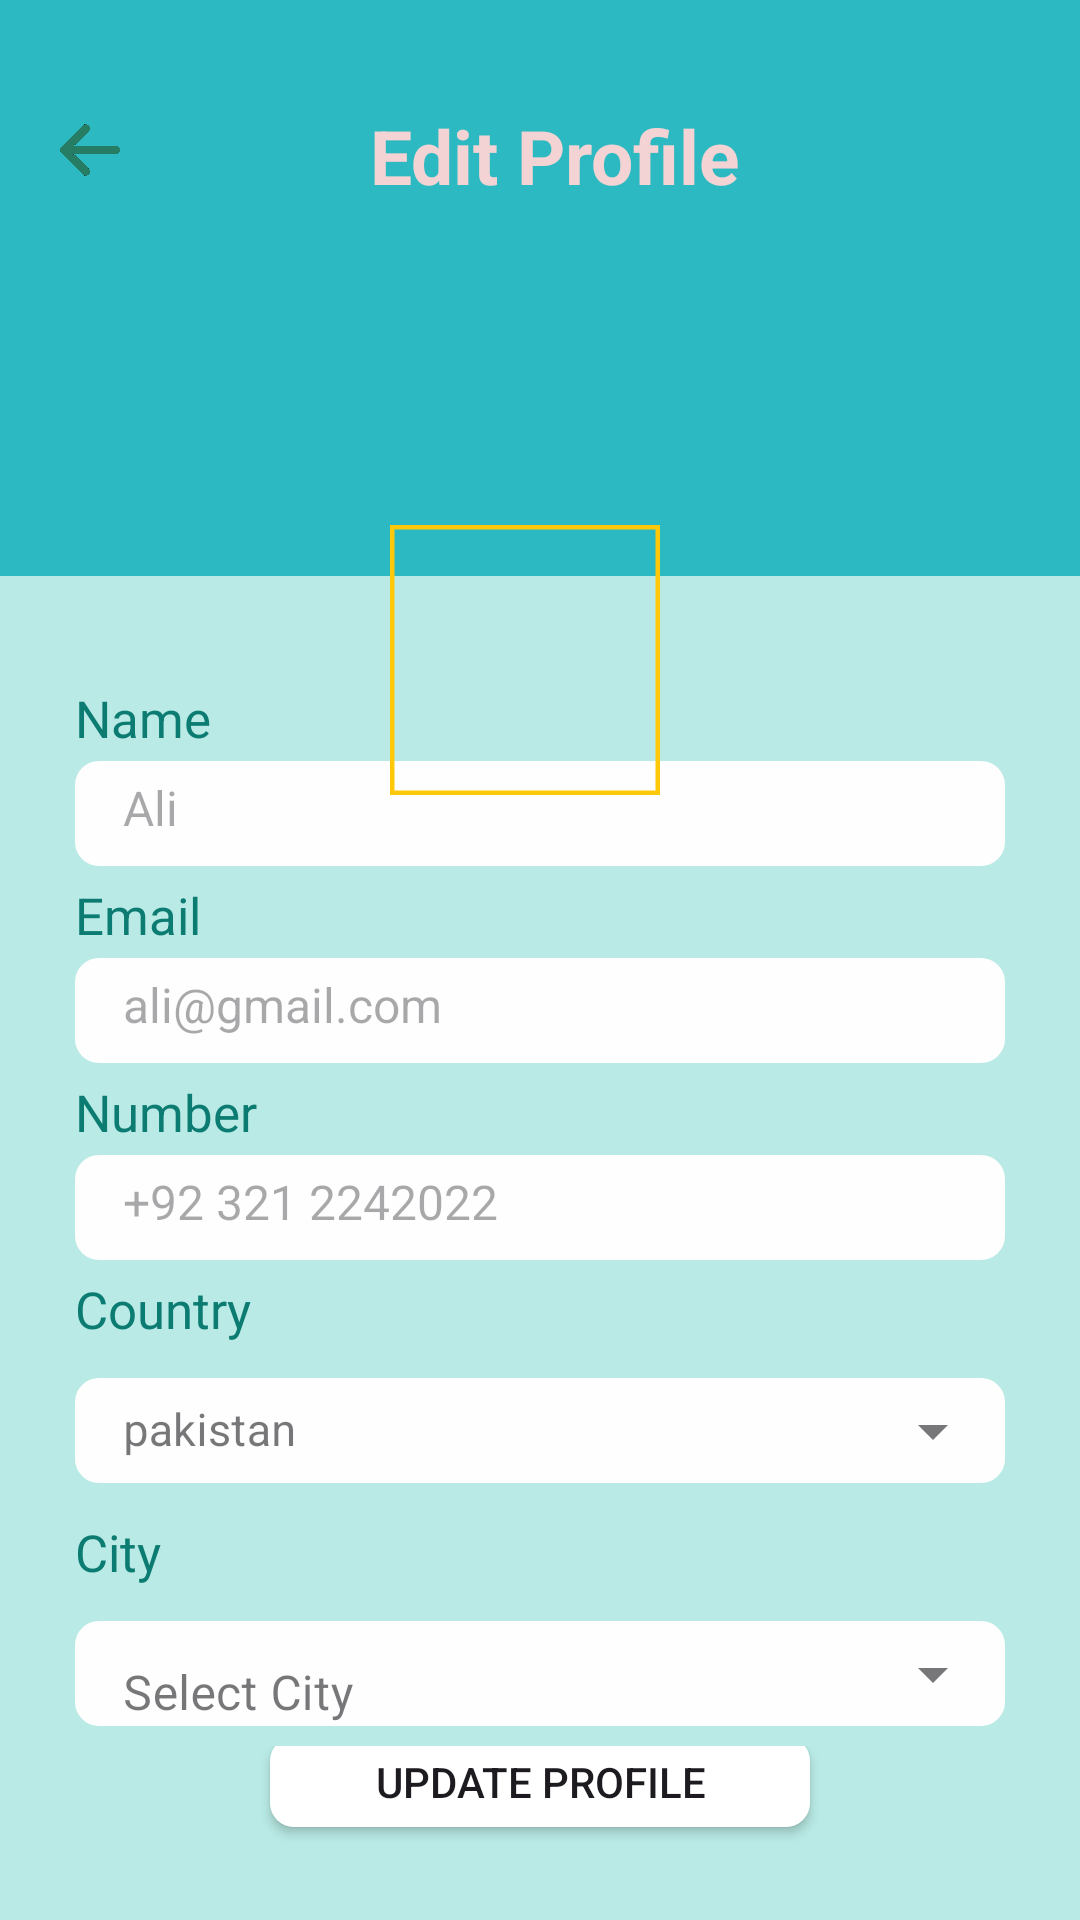

Icon click points for this 1080×1920 phone screenshot, format (x=x, y=y):
arrow: (x=90, y=150)
